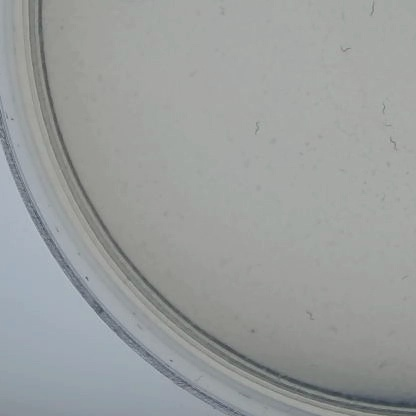worm: (385, 136, 402, 153), (334, 44, 354, 57), (305, 306, 316, 327), (329, 316, 340, 336), (251, 120, 265, 135), (367, 0, 380, 16), (380, 97, 389, 115), (398, 273, 410, 284), (380, 121, 395, 128)
